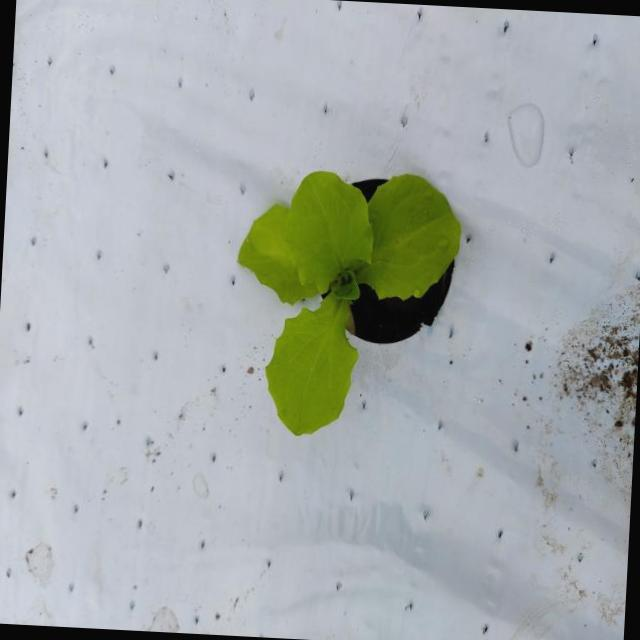Lettuce-Not-Ready-to-Harvest: (239, 172, 459, 434)
